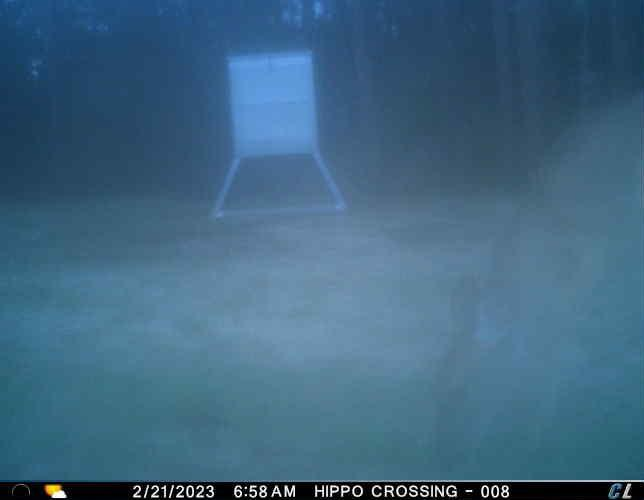Deer: (438, 86, 644, 473)
